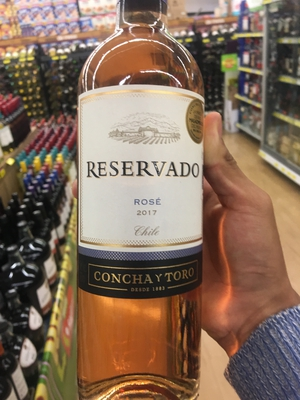reservado rose: (65, 23, 215, 400)
